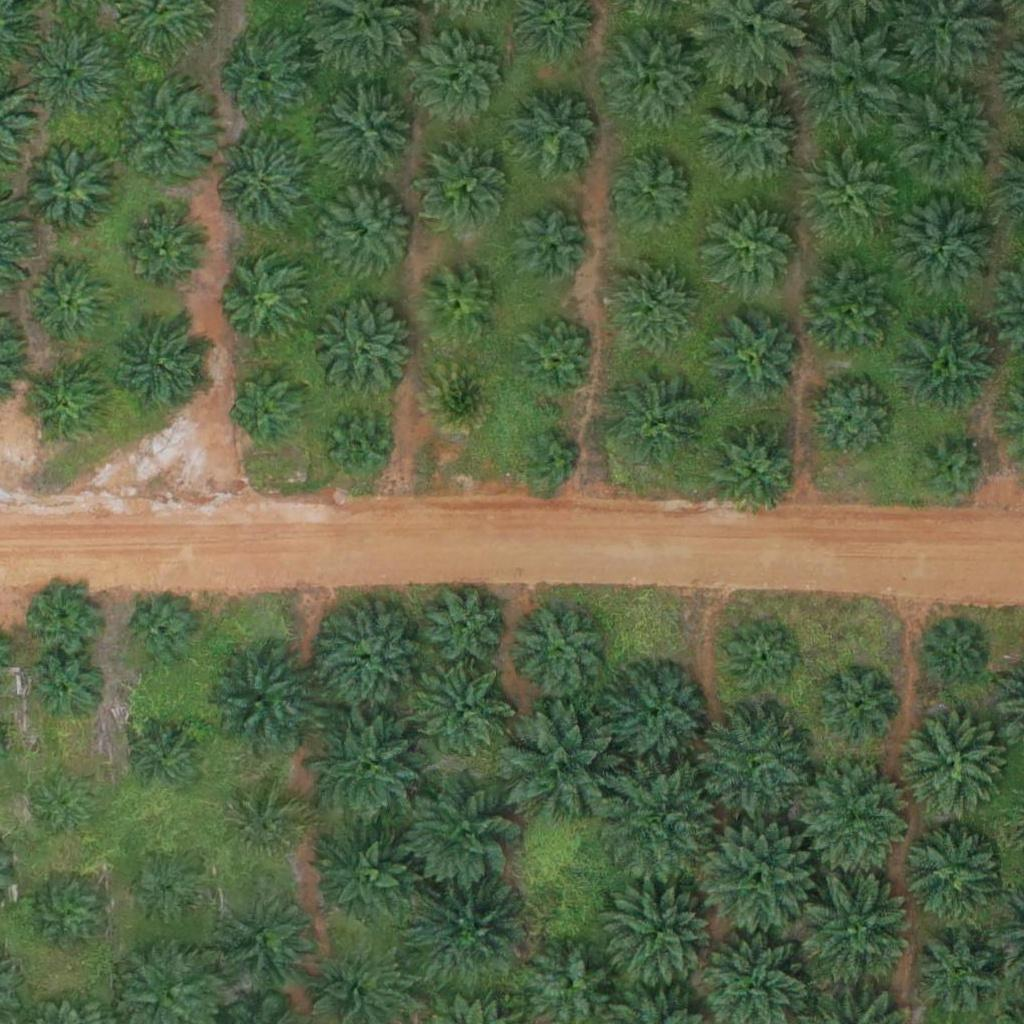Kelapa_Sawit: (198, 639, 323, 765), (305, 700, 430, 826), (400, 770, 525, 896), (497, 703, 622, 829), (600, 762, 725, 888), (795, 869, 920, 995), (606, 880, 719, 994), (798, 762, 911, 875), (701, 818, 813, 932), (796, 21, 908, 134), (314, 822, 426, 935), (413, 875, 525, 988), (696, 703, 808, 816), (902, 86, 1002, 187), (896, 194, 996, 295), (897, 316, 997, 417), (803, 143, 903, 244), (802, 260, 902, 361), (701, 85, 801, 186), (700, 201, 800, 302), (604, 29, 704, 130), (114, 316, 214, 417), (315, 603, 415, 704), (903, 712, 1003, 813), (902, 827, 1002, 928), (703, 418, 803, 518), (609, 368, 709, 468), (409, 25, 509, 125), (117, 96, 217, 196), (319, 182, 419, 282), (315, 300, 415, 400), (414, 660, 514, 760), (604, 666, 704, 766), (909, 923, 1009, 1023), (24, 358, 112, 447), (808, 374, 896, 462), (422, 145, 510, 233), (22, 28, 110, 116), (24, 145, 112, 233), (325, 85, 413, 173), (126, 206, 214, 294), (27, 257, 115, 345), (26, 871, 114, 959), (713, 314, 800, 402), (607, 145, 694, 233), (609, 257, 696, 345), (512, 94, 599, 182), (228, 34, 315, 122), (219, 140, 306, 228), (225, 259, 312, 347), (223, 894, 310, 982), (420, 581, 507, 669), (514, 607, 601, 695), (422, 270, 497, 346), (512, 209, 587, 285), (725, 624, 800, 700), (914, 433, 989, 509), (519, 318, 594, 394), (423, 359, 498, 435), (321, 408, 396, 484), (229, 787, 304, 862), (822, 668, 897, 743), (231, 367, 306, 442), (21, 578, 96, 653), (25, 656, 100, 731), (123, 593, 198, 668), (126, 723, 201, 798), (132, 853, 207, 928), (923, 622, 986, 685), (521, 431, 583, 494), (31, 775, 93, 838)
